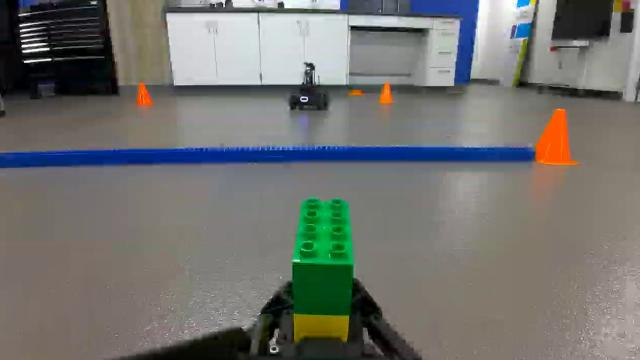robot: (287, 61, 331, 112)
